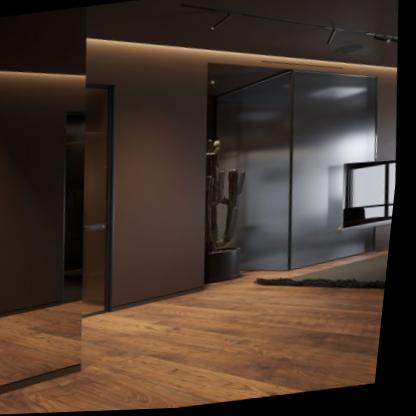Wooden floor: (0, 272, 391, 415)
